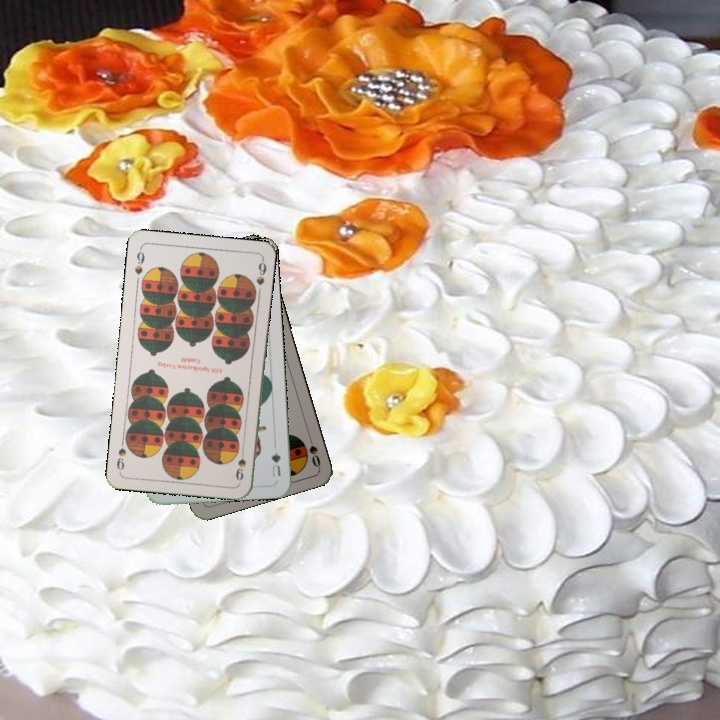GU: (267, 448, 283, 480)
S9: (232, 443, 248, 483), (130, 244, 147, 277)
SO: (304, 430, 323, 470)
